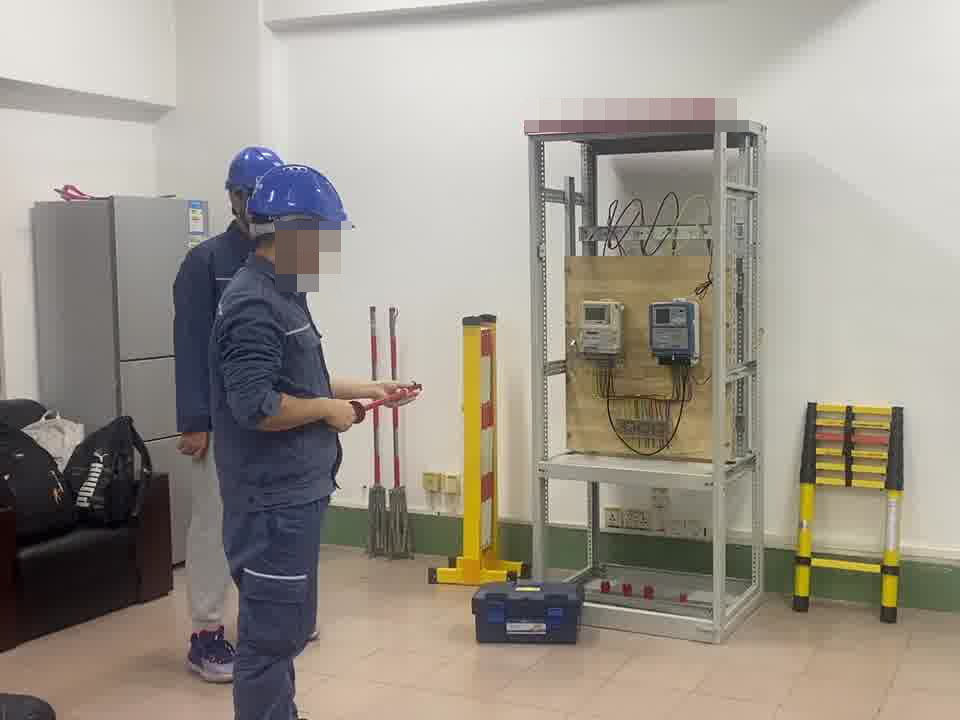downcloth: (173, 425, 235, 627)
downsuit: (217, 510, 329, 720)
halt: (241, 160, 351, 280), (218, 142, 285, 231)
hand: (170, 427, 214, 465), (373, 376, 424, 408), (324, 395, 357, 441)
inear: (268, 213, 321, 275)
person: (170, 146, 369, 720)
testrod: (338, 379, 423, 429)
upsuit: (191, 252, 344, 497)
wrongtop: (227, 366, 333, 445)
